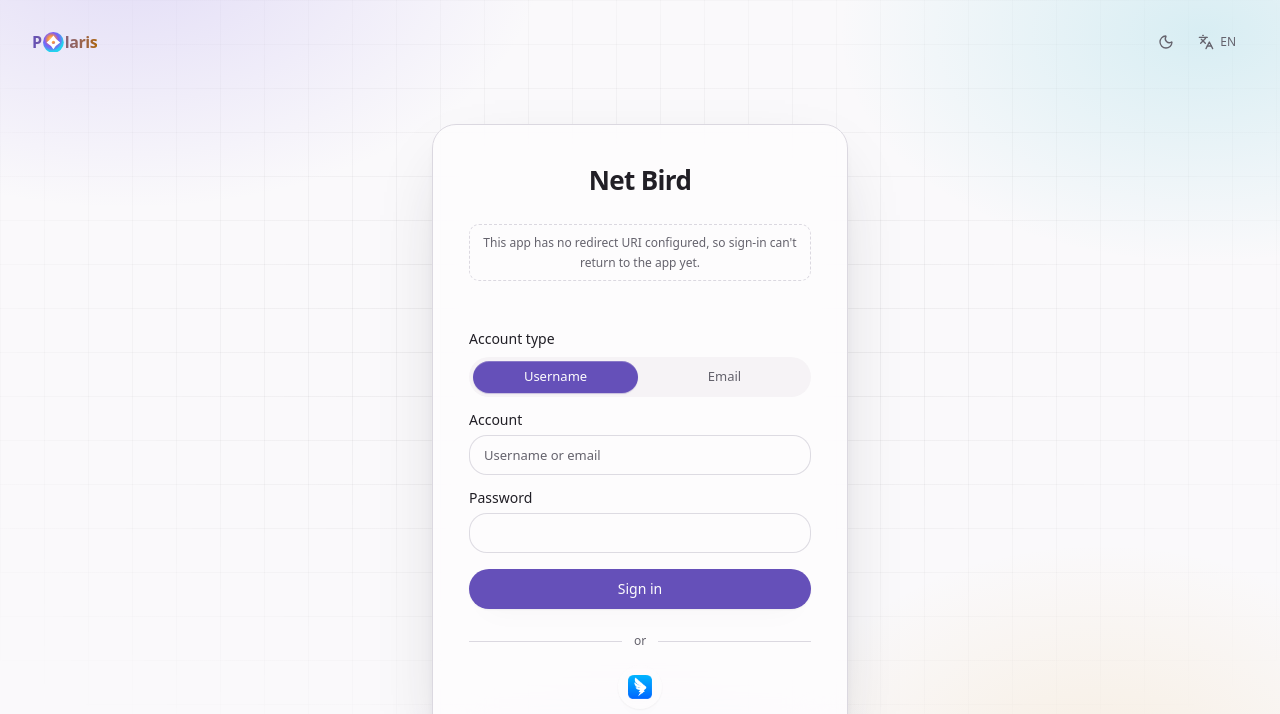
Test: 登录第二因子 › 「返回上一步」回到凭据屏并恢复第三方登录入口
Expected: the heading "Net Bird" is shown, [589,162,691,198]
Type "ceshi" into the field labelled "Account" at (640, 455), box [469,435,811,475]
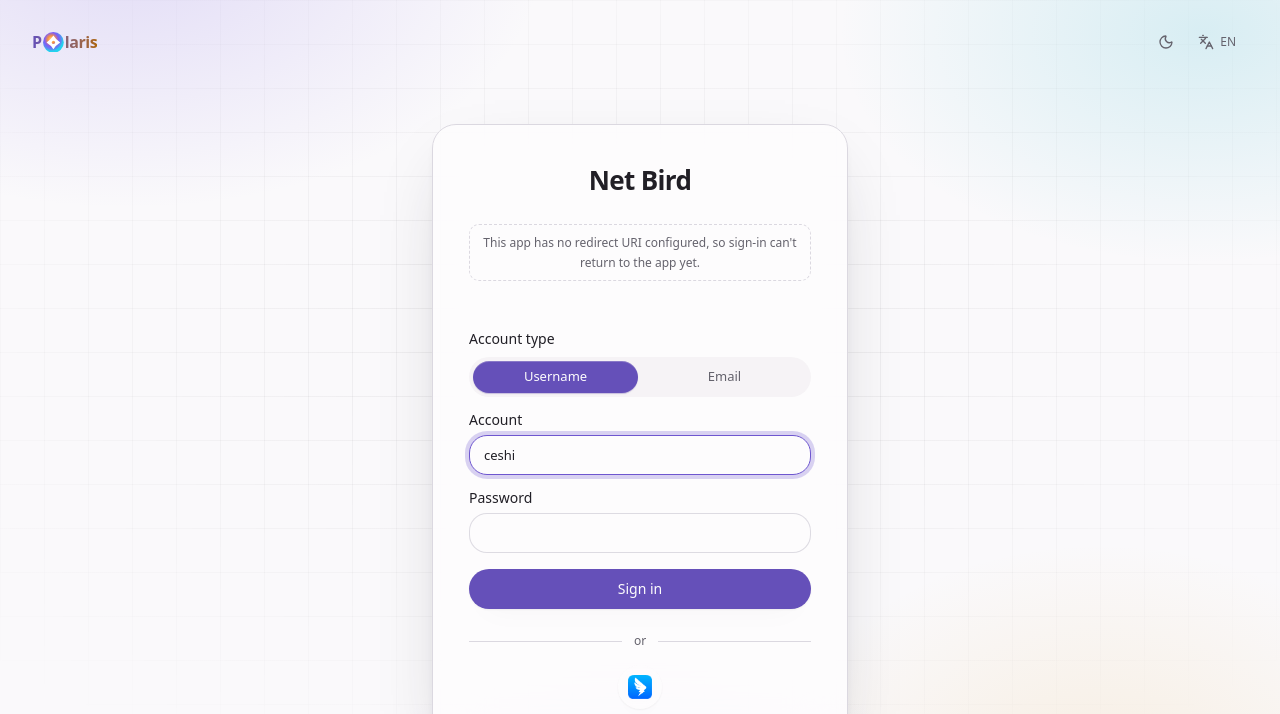
Type "test123456" into the password field labelled "Password" at (640, 533), box [469,513,811,553]
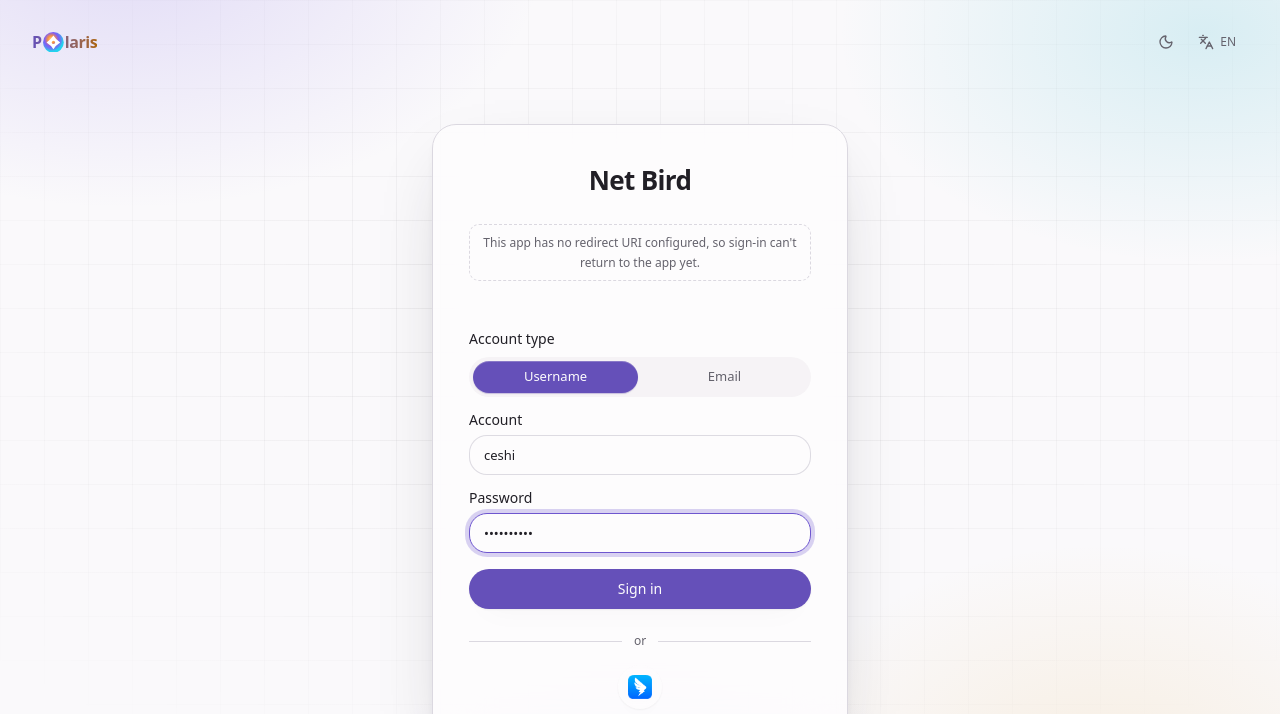
Click the button "Sign in" at (640, 589), box [469,569,811,609]
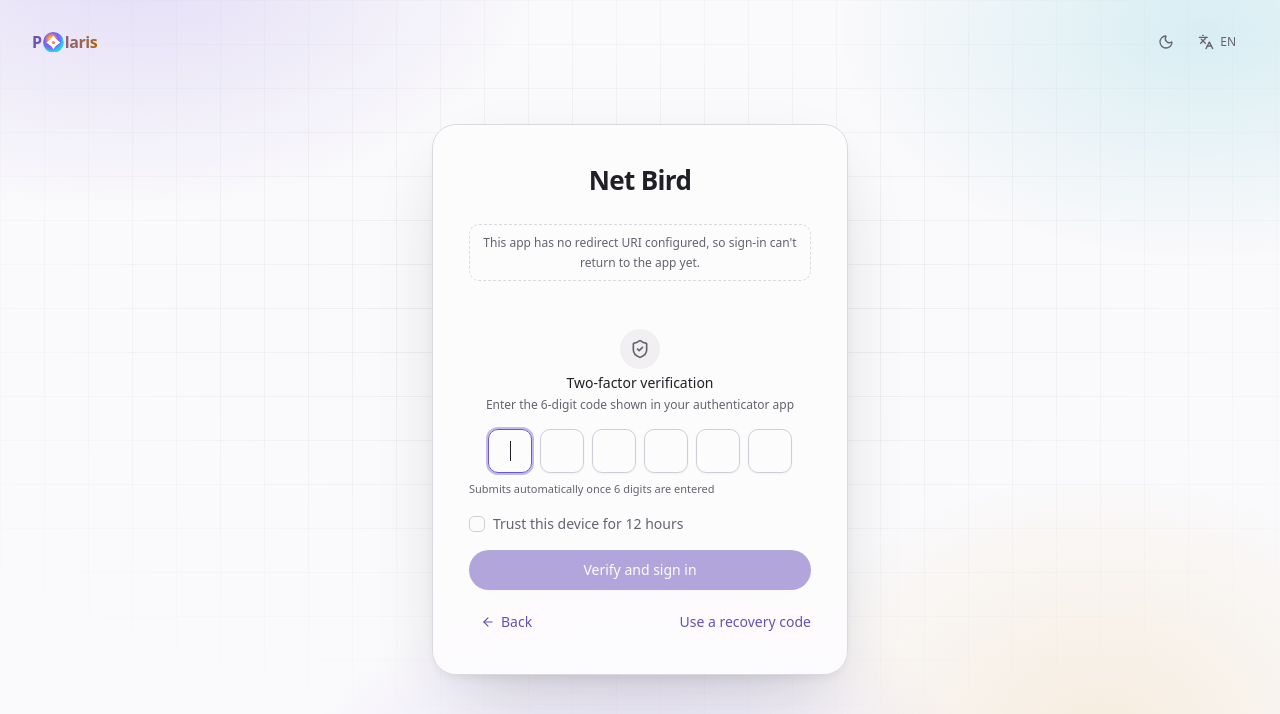
Now the text "Two-factor verification" is shown, box [566,373,714,392]
Click the button "Back" at (507, 622), box [469,606,544,638]
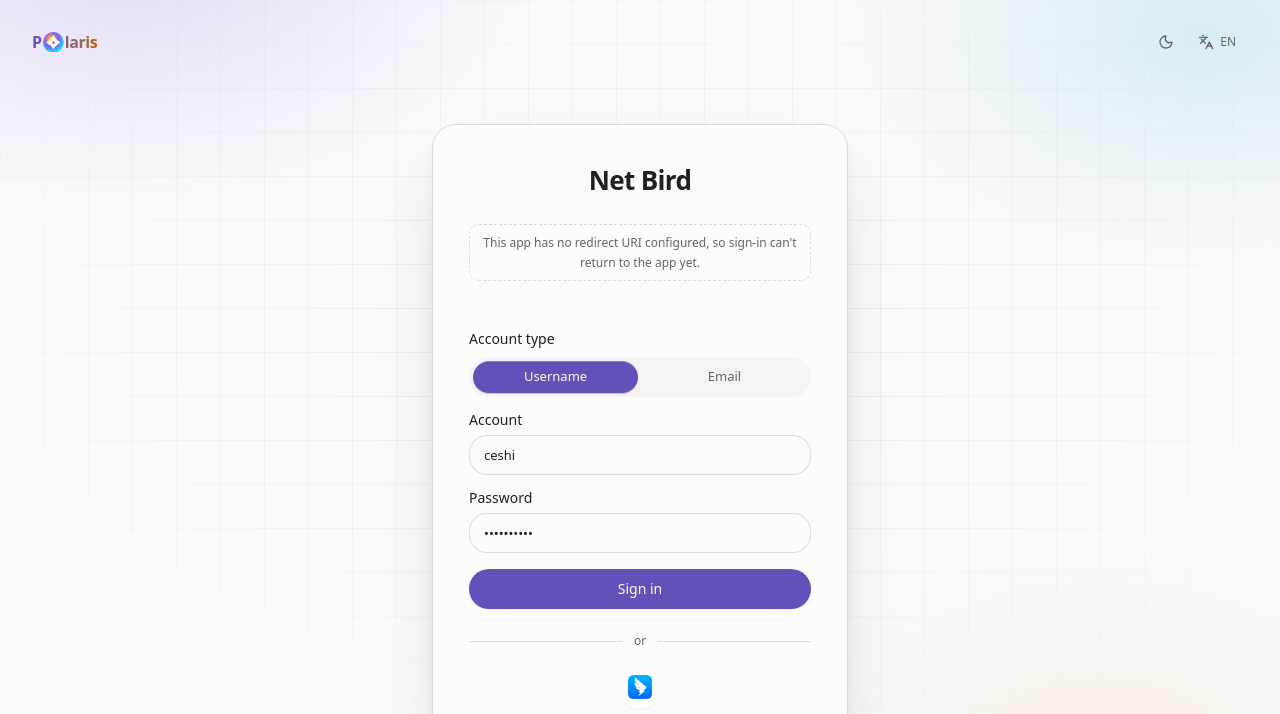
Now the password field labelled "Password" is shown, box [469,513,811,553]
Now the button named "钉钉登录" is shown, box [618,665,662,709]
